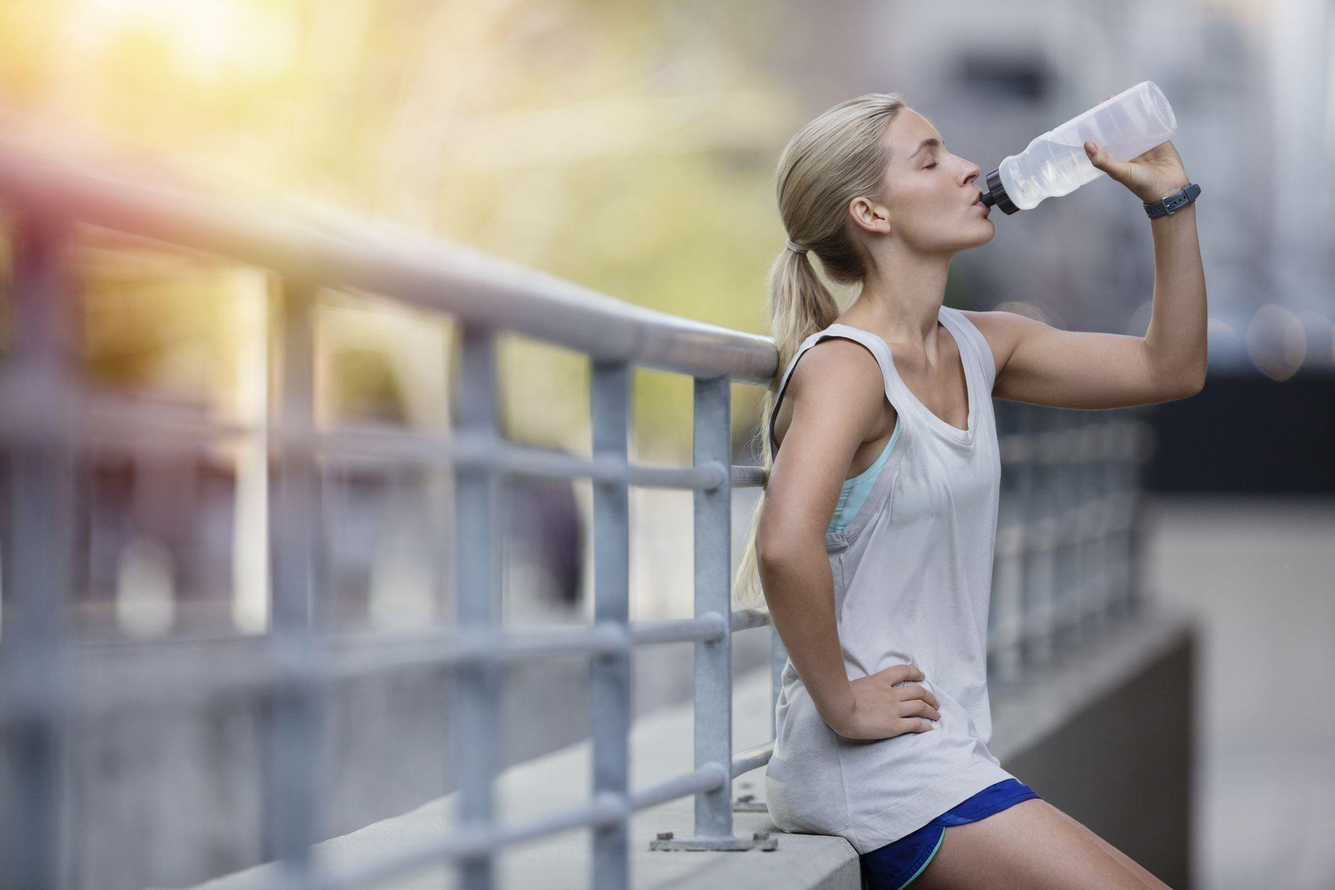gym bottle: (976, 79, 1180, 218)
